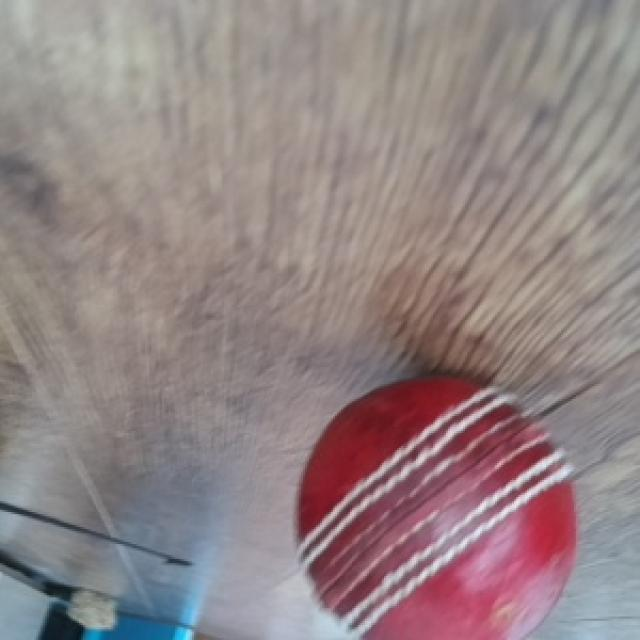ball: (294, 375, 582, 640)
